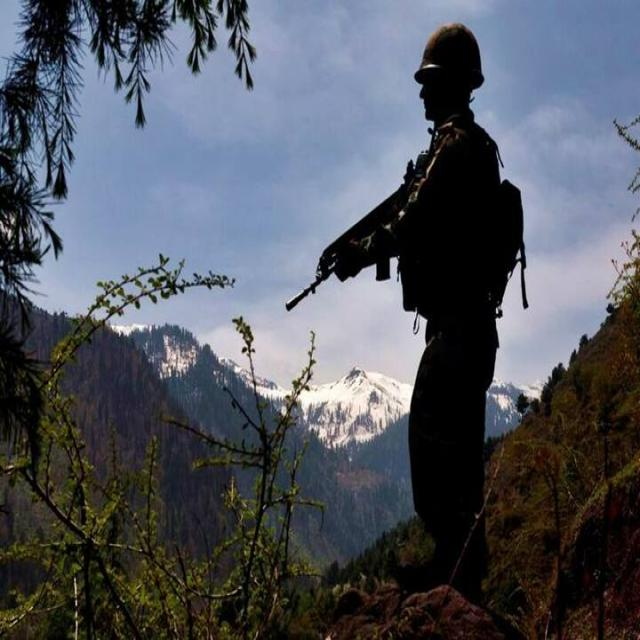Forest: (0, 2, 640, 640)
Militant: (329, 0, 571, 640)
